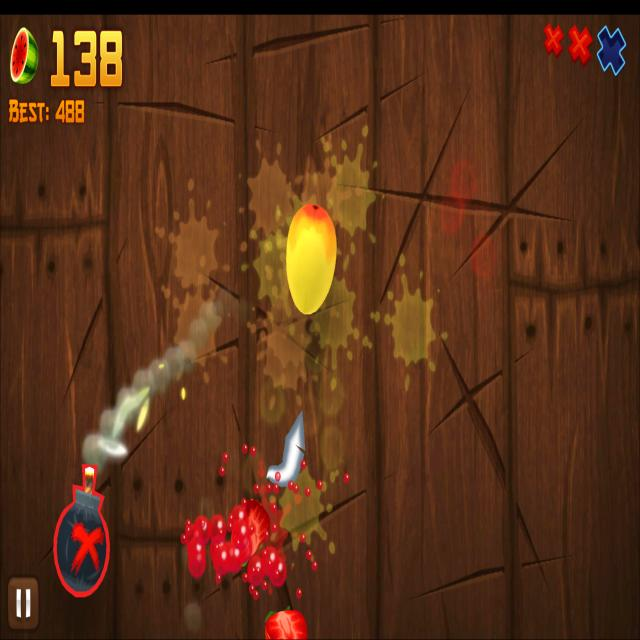bomb: (53, 464, 110, 597)
fruit: (286, 204, 337, 315)
